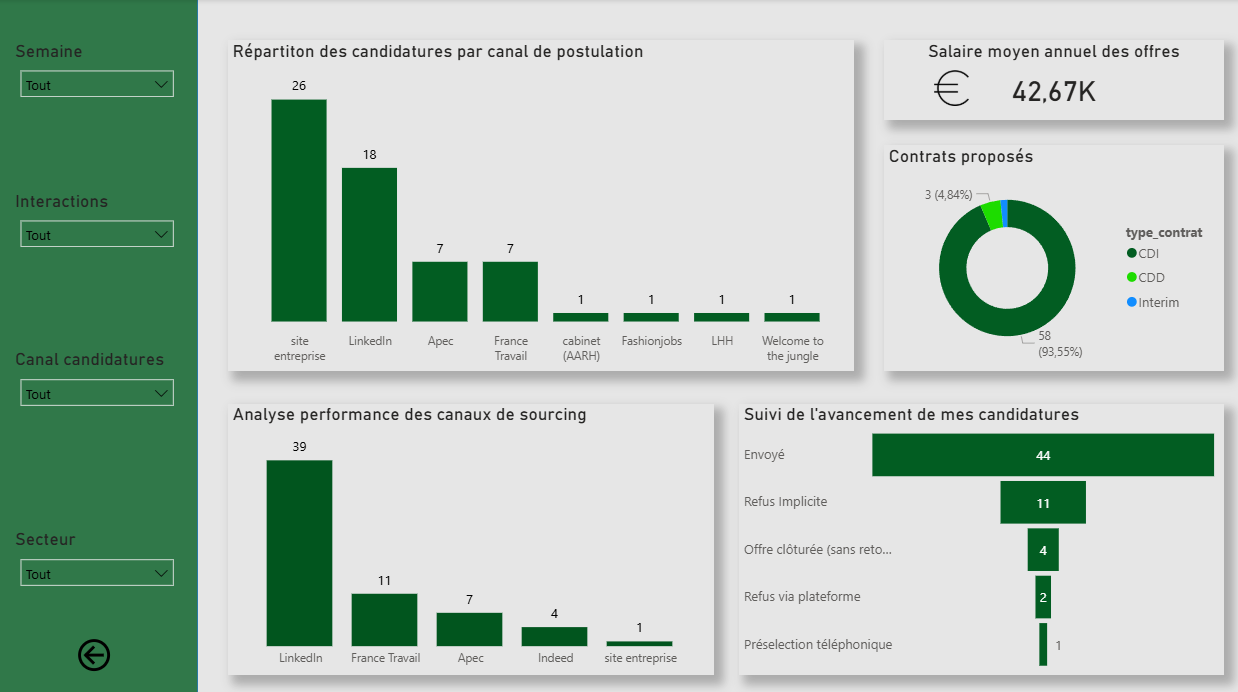

What the dashboard file says about the page in this screenshot:
{"tool":"powerbi","page":{"name":"Page 2","canvas":[1280,720],"ordinal":1},"visuals":[{"type":"shape","box":[0,0,206,720.3],"z":0},{"type":"clusteredColumnChart","title":"Analyse performance des canaux de sourcing","fields":{"Category":["vue_analyse_offres_completes.source_decouverte"],"Y":["Count(vue_analyse_offres_completes.id_offre)"]},"box":[237.4,417.3,500,279.5],"z":1000},{"type":"clusteredColumnChart","title":"Répartiton des candidatures par canal de postulation","fields":{"Category":["vue_analyse_offres_completes.canal_postulation"],"Y":["Count(vue_analyse_offres_completes.id_offre)"]},"box":[237.4,42.1,644.5,340.7],"z":2000},{"type":"donutChart","title":"Contrats proposés","fields":{"Category":["vue_analyse_offres_completes.type_contrat"],"Y":["CountNonNull(vue_analyse_offres_completes.id_offre)"]},"box":[912.5,150.6,349.7,232.3],"z":3000},{"type":"funnel","title":"Suivi de l''avancement de mes candidatures","fields":{"Y":["_Mesures.Nb_Candidatures"],"Category":["vue_analyse_offres_completes.statut_actuel"]},"box":[763.2,417.3,499,279.5],"z":4000},{"type":"card","title":"Salaire moyen annuel des offres","fields":{"Values":["_Mesures.Salaire_moyen"]},"box":[912.5,42.1,349.7,81.7],"z":5000},{"type":"image","box":[950.7,72.7,62.5,37],"z":6000},{"type":"slicer","title":"Secteur","fields":{"Values":["vue_suivi_complet.secteur"]},"box":[12.9,527.5,178.9,78.5],"z":7000},{"type":"slicer","title":"Canal candidatures","fields":{"Values":["vue_analyse_offres_completes.canal_postulation"]},"box":[13.4,360,177.7,79],"z":8000},{"type":"slicer","title":"Interactions","fields":{"Values":["vue_suivi_complet.type_interaction"]},"box":[13.4,197.2,177.7,79],"z":9000},{"type":"slicer","title":"Semaine","fields":{"Values":["Calendrier.Semaine_Num"]},"box":[13.4,41.8,177.7,79.2],"z":10000},{"type":"actionButton","box":[77.2,653.9,56.7,43.4],"z":11000}]}

Visuals, with their boxes in screenshot pixels (x1, y1, x2, y2), scaled from the page's 1280x720 canvas onto the 1238x692 screenshot:
shape: x1=0 y1=0 x2=199 y2=691
"Analyse performance des canaux de sourcing" clusteredColumnChart: x1=230 y1=401 x2=713 y2=670
"Répartiton des candidatures par canal de postulation" clusteredColumnChart: x1=230 y1=40 x2=853 y2=368
"Contrats proposés" donutChart: x1=883 y1=145 x2=1221 y2=368
"Suivi de l''avancement de mes candidatures" funnel: x1=738 y1=401 x2=1221 y2=670
"Salaire moyen annuel des offres" card: x1=883 y1=40 x2=1221 y2=119
image: x1=920 y1=70 x2=980 y2=105
"Secteur" slicer: x1=12 y1=507 x2=186 y2=582
"Canal candidatures" slicer: x1=13 y1=346 x2=185 y2=422
"Interactions" slicer: x1=13 y1=190 x2=185 y2=265
"Semaine" slicer: x1=13 y1=40 x2=185 y2=116
actionButton: x1=75 y1=628 x2=130 y2=670
